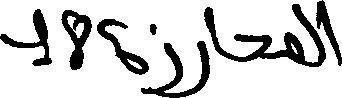X: (98, 14, 147, 97), (0, 4, 50, 70), (149, 19, 183, 97), (63, 5, 90, 74), (185, 7, 204, 97), (297, 0, 318, 71), (320, 0, 341, 70), (237, 29, 268, 66), (206, 2, 219, 86), (286, 0, 295, 66)
